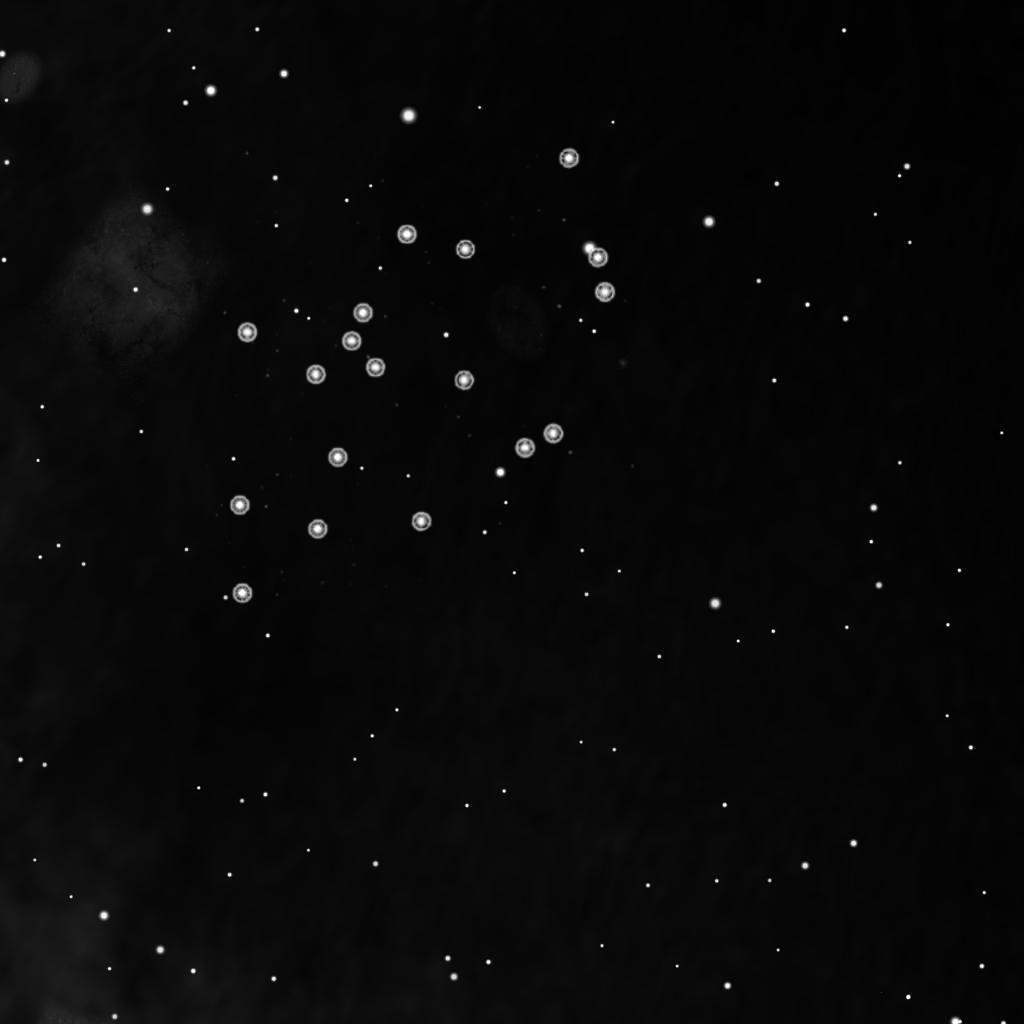canis_major: (302, 221, 478, 389)
